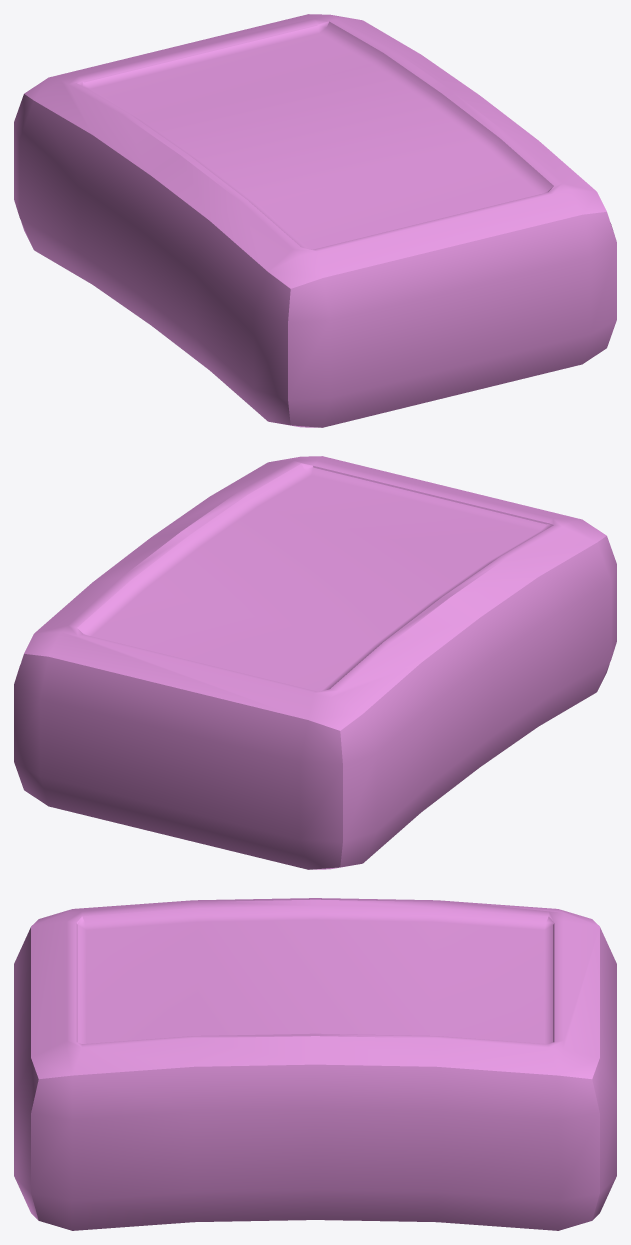
File: Soap.fbx
3 renders of one model, top to bottom at view 1: azimuth 30°, elevation 25°; view 2: azimuth 150°, elevation 25°; view 3: azimuth 270°, elevation 25°, orthographic. The views are drawn at different scales.
Parts seen in each view (by area): view 1: pCube8; view 2: pCube8; view 3: pCube8.
Boxes of the visible parts, bbox=[...] form: pCube8: bbox=[14, 14, 616, 427]; pCube8: bbox=[14, 456, 616, 869]; pCube8: bbox=[14, 898, 616, 1230].
Size of the model in its own units: 1 by 0.4945 by 1.41.
